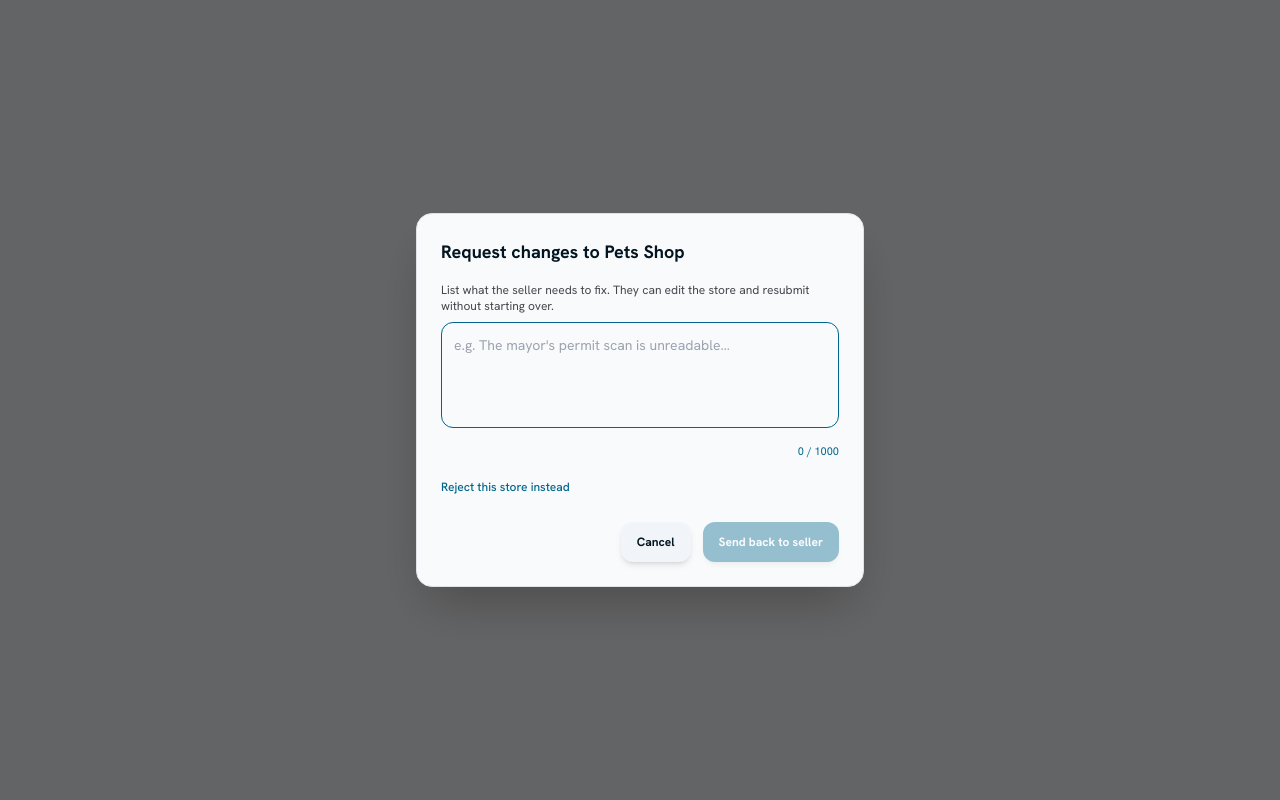
Test: the acknowledgement gate › does not leak the gate into the revision path
Type "The permit scan is unreadable" into the text box at (640, 375), box [441,322,839,428]
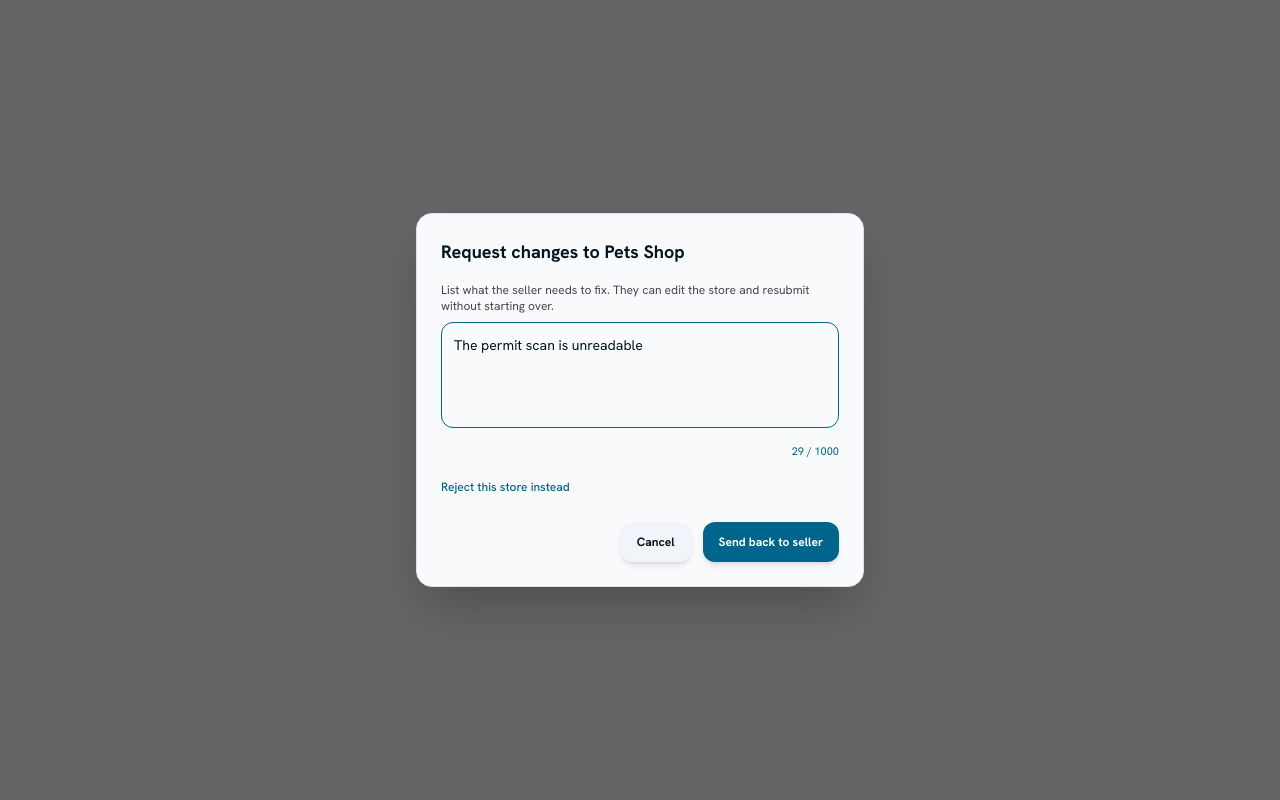
Check: the button "Send back to seller" is enabled, box [703,522,839,562]
